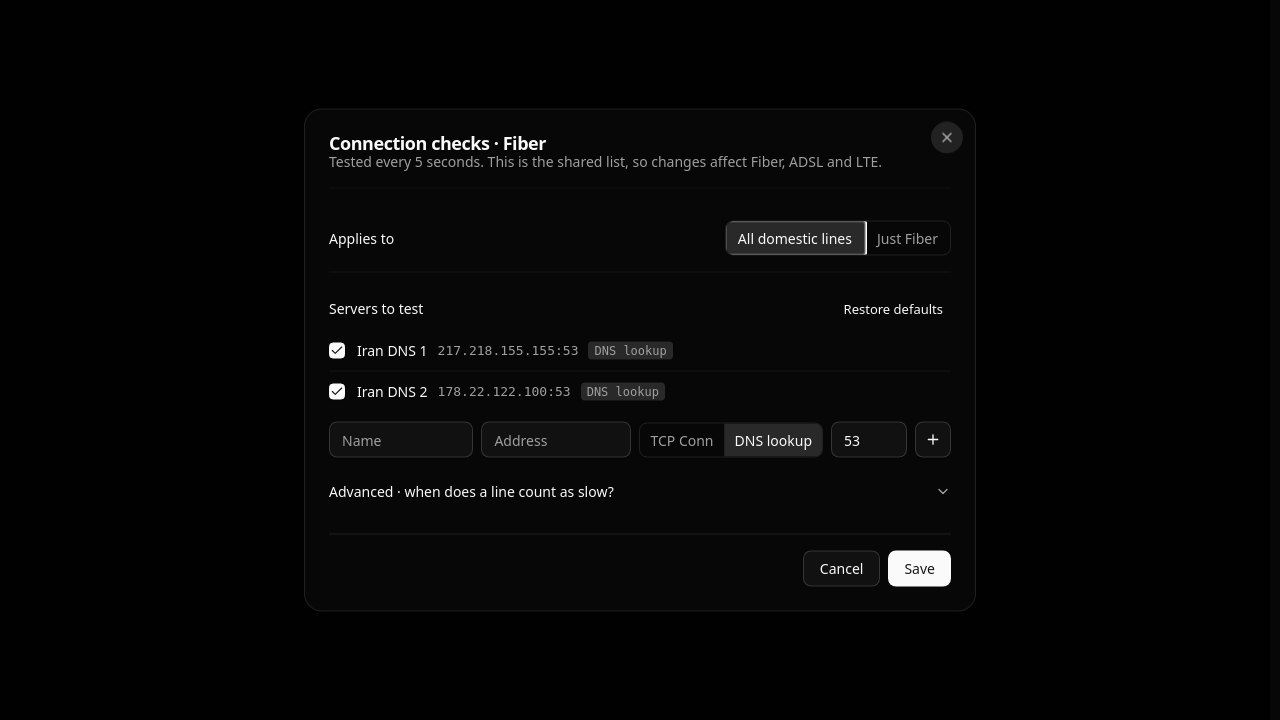
rows › keeps a preset but drops an added server on request
The width and height of the screenshot is (1280, 720).
Type "Head-end" into the field named "Name for the server" at coordinates (401, 440), box [329,422,473,458]
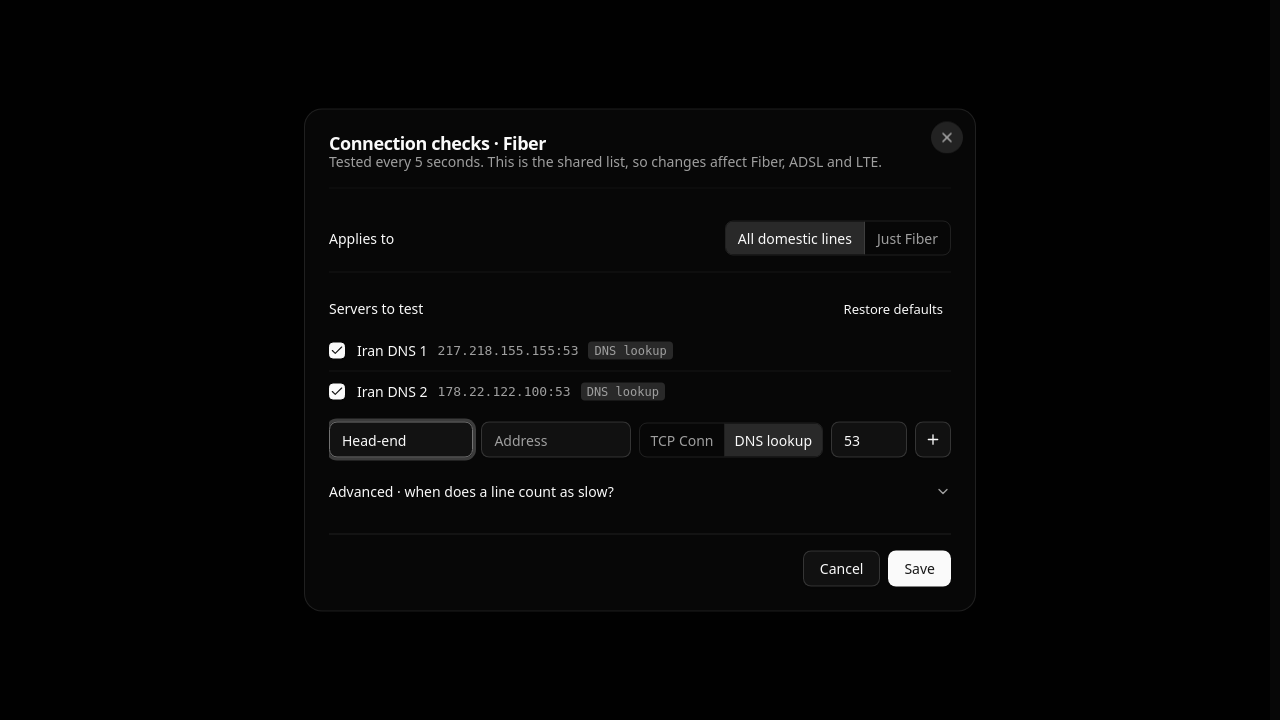
Type "10.0.0.9" into the field named "Address of the server" at coordinates (556, 440), box [481,422,631,458]
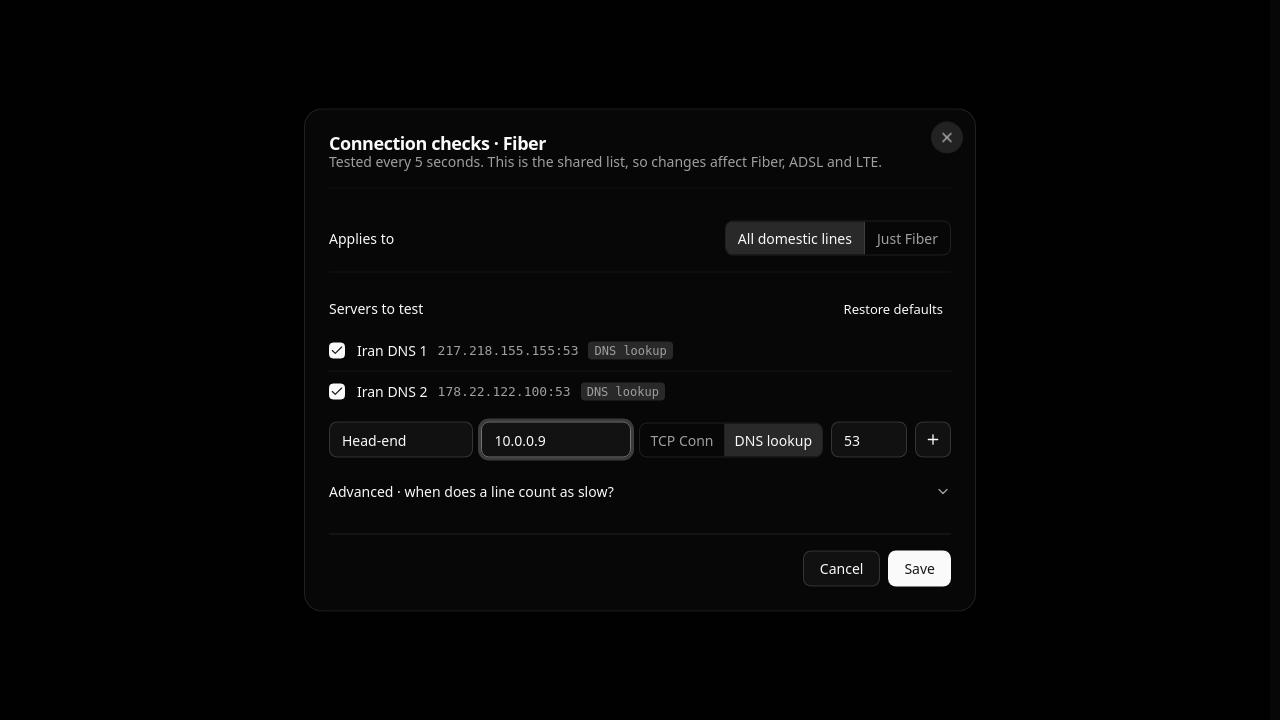
Click the button named "Add this server" at coordinates (933, 440), box [915,422,951,458]
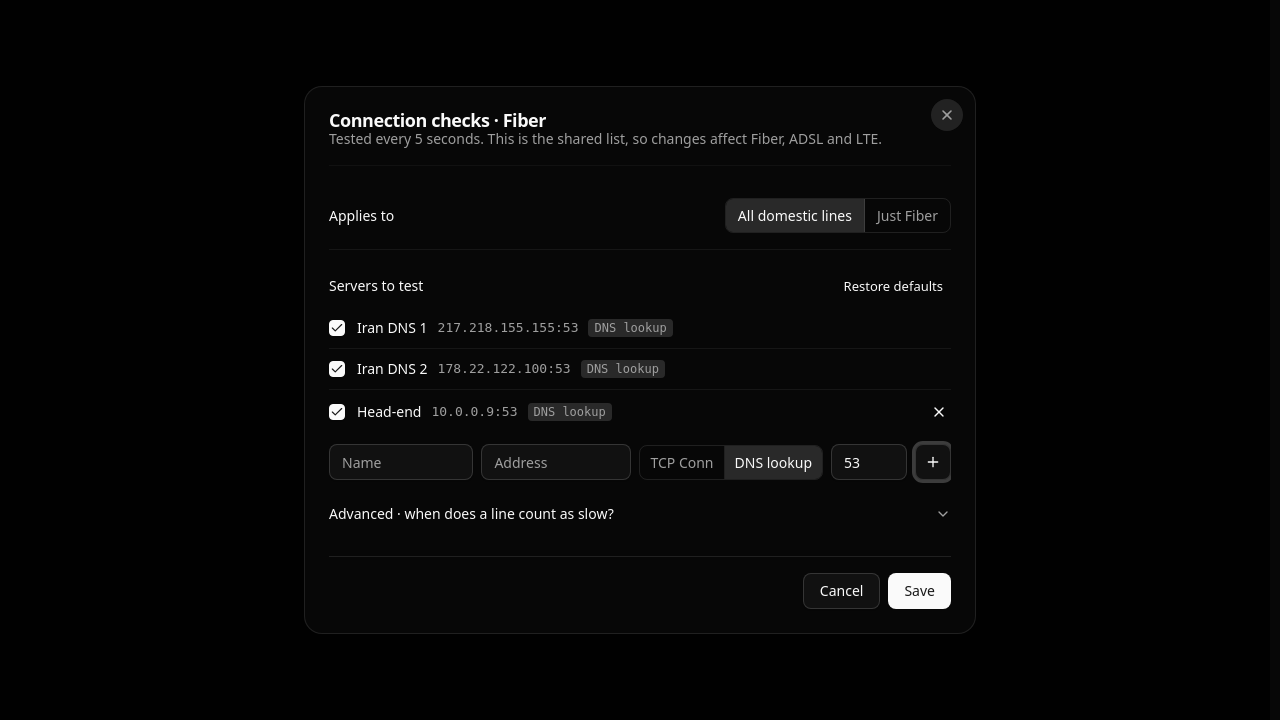
expect the text "Head-end" is shown: met, box [357,402,421,422]
Click the button named "Remove Head-end" at coordinates (939, 412), box [927,400,951,424]
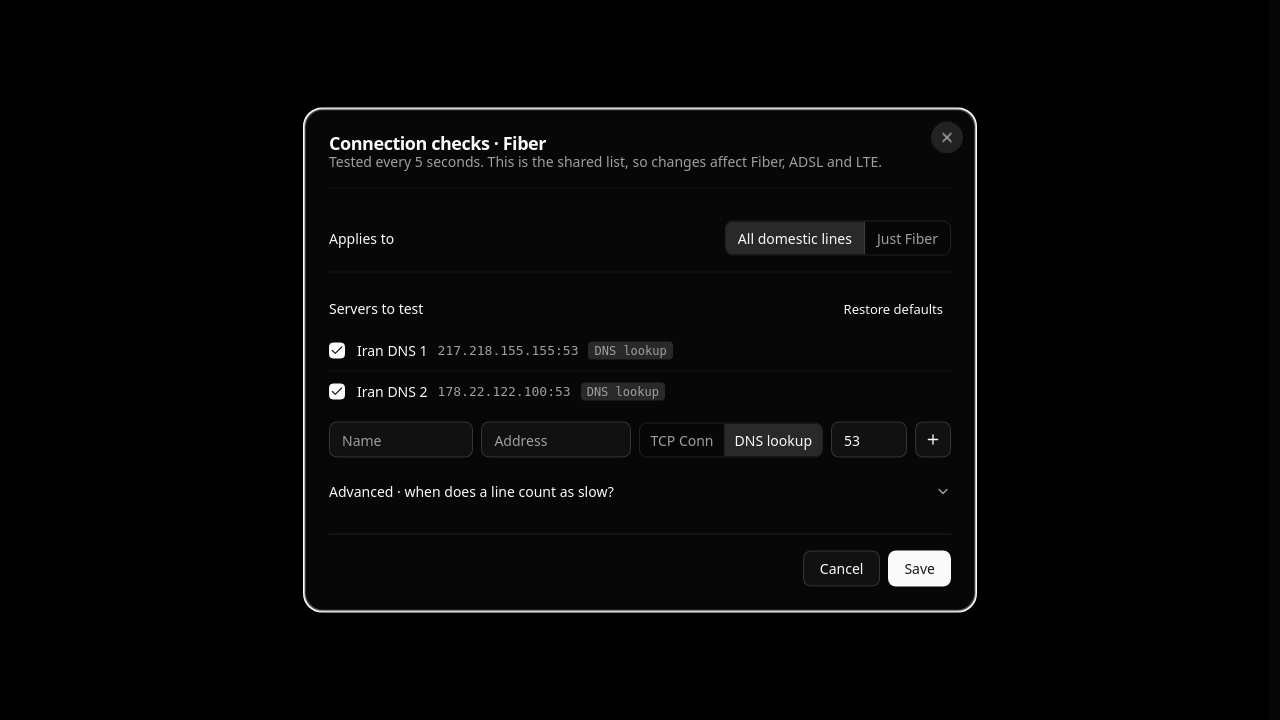
expect the text "Head-end" is gone: met
